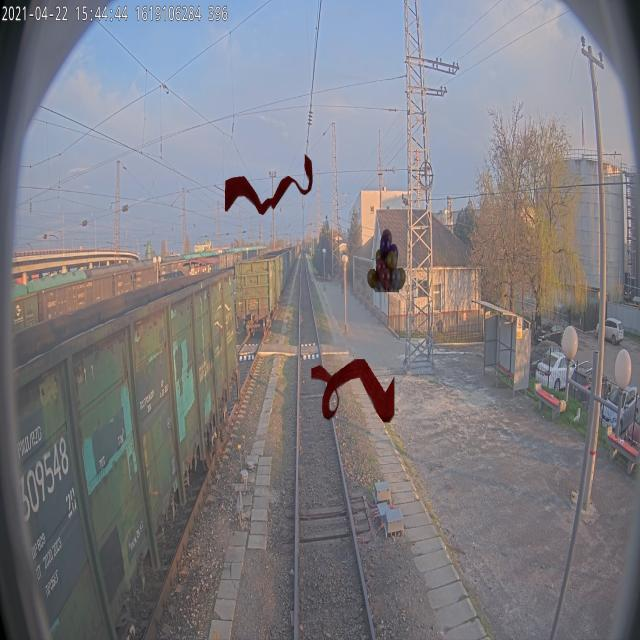balloon: (367, 228, 406, 292)
floating object: (224, 152, 314, 216), (311, 358, 395, 422)
